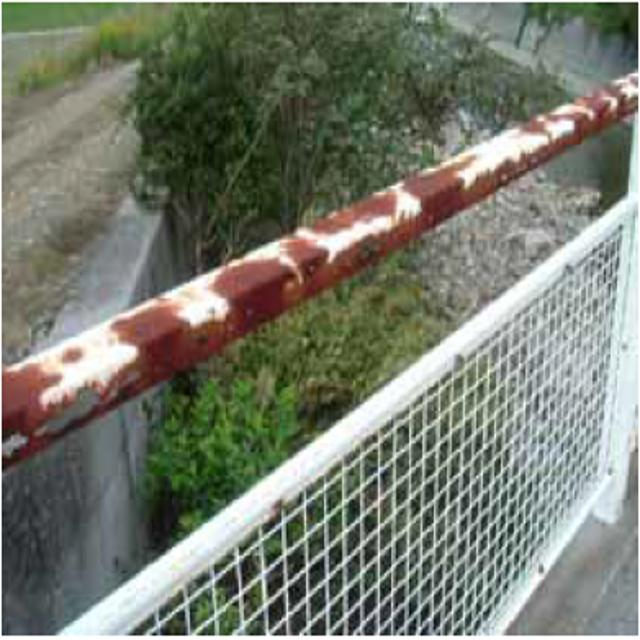corrosion: (0, 56, 640, 440)
